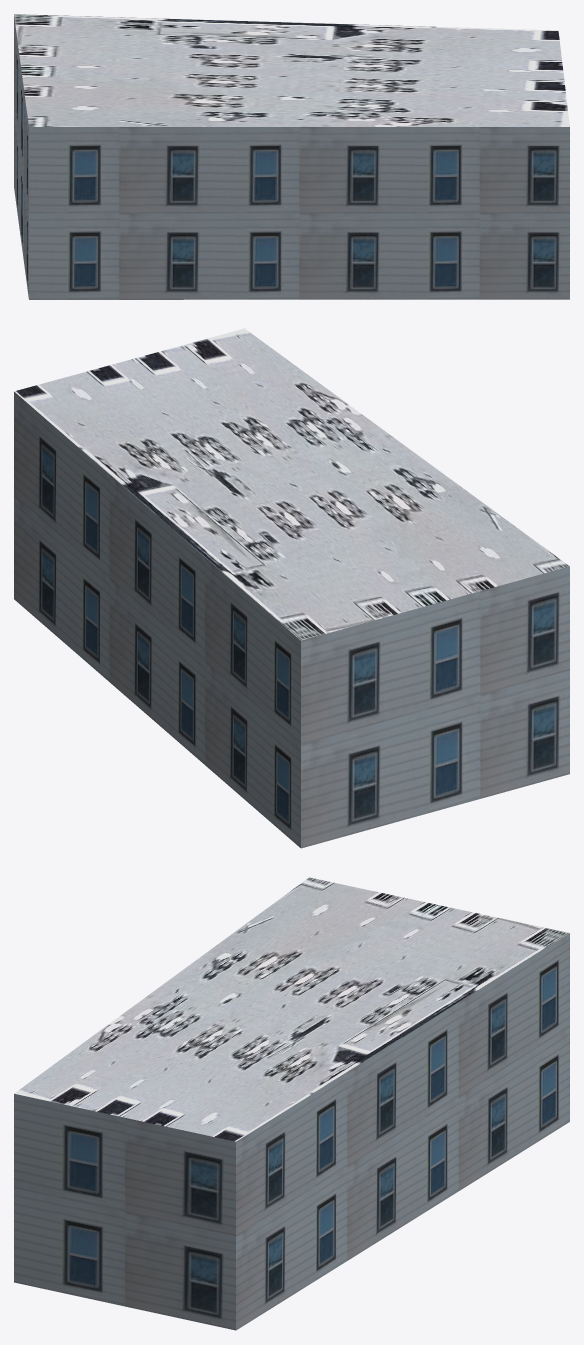
File: ResTex__710.fbx
3 renders of one model, top to bottom at view 1: azimuth 30°, elevation 25°; view 2: azimuth 150°, elevation 25°; view 3: azimuth 270°, elevation 25°, orthographic. The views are drawn at different scales.
Parts seen in each view (by area): view 1: CityEngineMaterial_18_m, CityEngineMaterial_8_m; view 2: CityEngineMaterial_18_m, CityEngineMaterial_8_m; view 3: CityEngineMaterial_18_m, CityEngineMaterial_8_m.
Boxes of the visible parts, x1=… form: CityEngineMaterial_18_m: x1=14, y1=15, x2=569, y2=299; CityEngineMaterial_8_m: x1=14, y1=14, x2=569, y2=126; CityEngineMaterial_18_m: x1=14, y1=392, x2=569, y2=848; CityEngineMaterial_8_m: x1=14, y1=328, x2=569, y2=640; CityEngineMaterial_18_m: x1=14, y1=933, x2=569, y2=1330; CityEngineMaterial_8_m: x1=14, y1=877, x2=569, y2=1141.
Bounding box in the file's own units: 18.02 × 6 × 16.02.
Materials: 2 (2 with a texture image).
